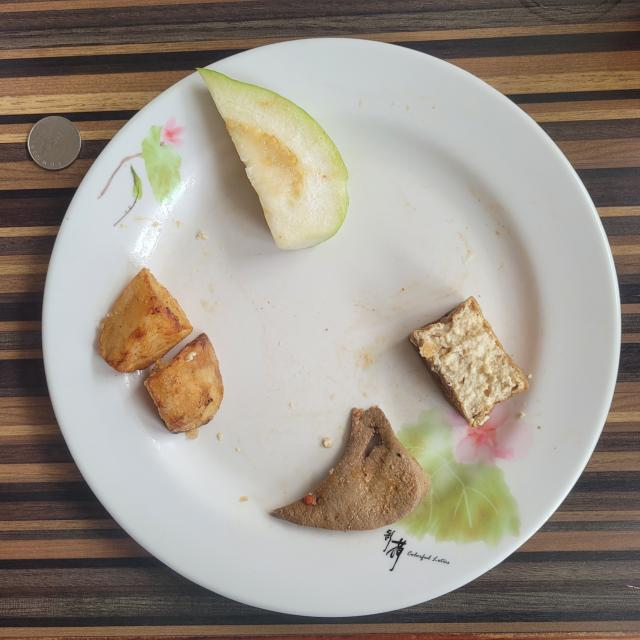coin: (28, 116, 81, 170)
egg tofu: (409, 296, 529, 428)
fried potato: (99, 268, 224, 434)
guava -sliced-: (199, 69, 349, 250)
pig liver: (270, 406, 430, 531)
